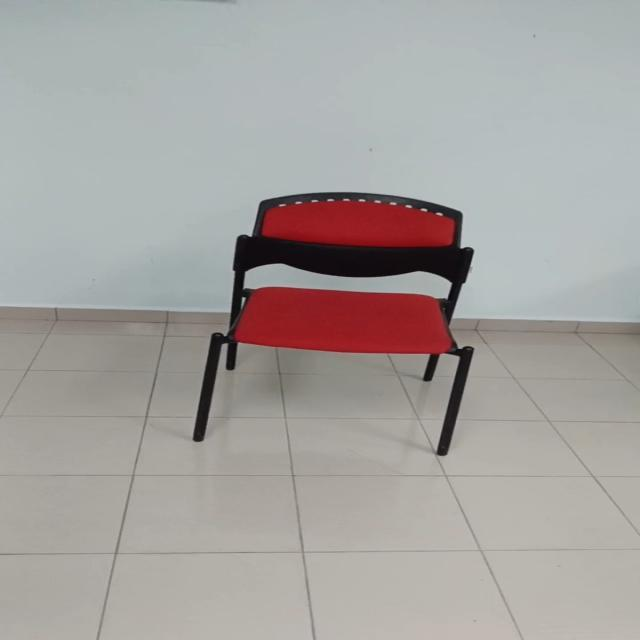sandalye: (192, 191, 473, 456)
